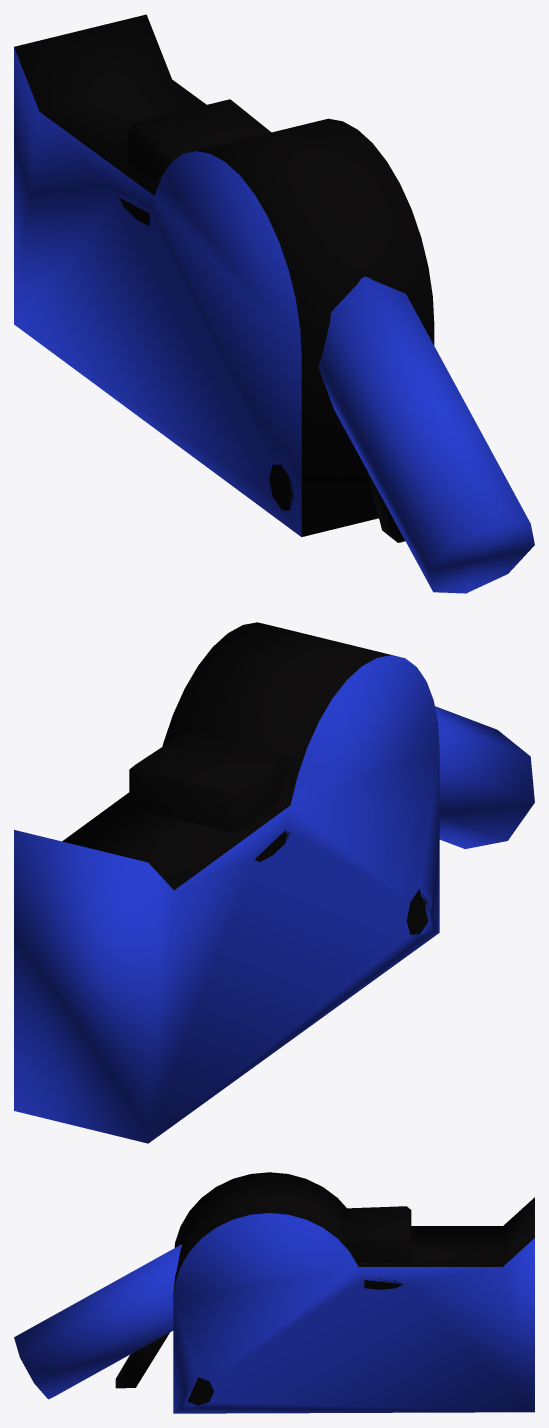
The model's file is hand_labeler.obj.
3 renders of one model, top to bottom at view 1: azimuth 30°, elevation 25°; view 2: azimuth 150°, elevation 25°; view 3: azimuth 270°, elevation 25°, orthographic. The views are drawn at different scales.
Visible parts, largest first — view 1: hand_labeler; view 2: hand_labeler; view 3: hand_labeler.
Boxes of the visible parts, box(x1,y1,x2,y2) form: hand_labeler: box(14, 14, 534, 593); hand_labeler: box(14, 622, 534, 1143); hand_labeler: box(14, 1172, 534, 1413).
Bounding box in the file's own units: 0.6 × 1.4 × 3.25.
